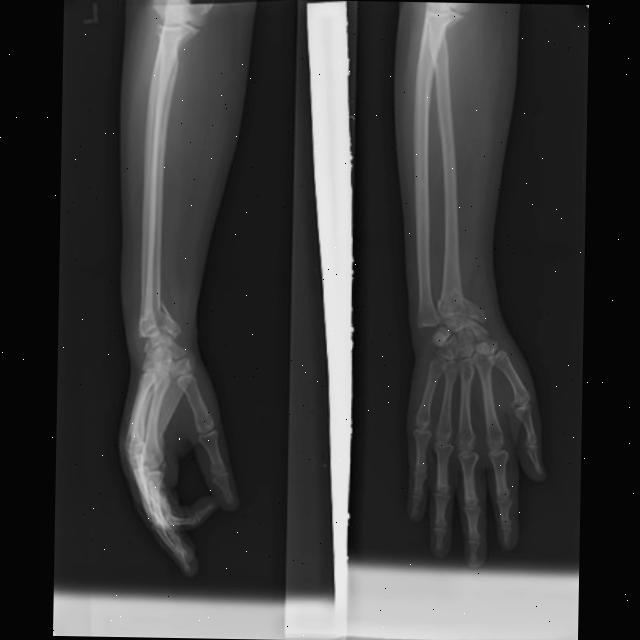Fracture: (433, 284, 487, 327), (134, 297, 184, 342)
